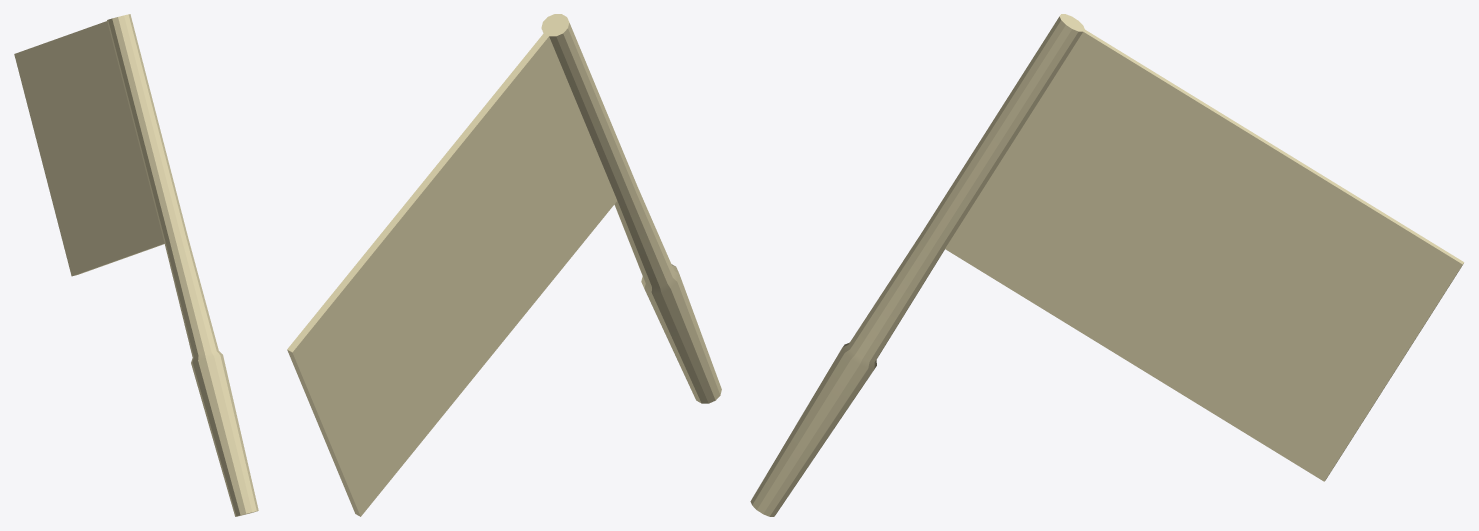
File: Lever_Flag_Left.fbx
3 views of the same model, side by side, from view 1: azimuth 30°, elevation 25°; view 2: azimuth 150°, elevation 25°; view 3: azimuth 270°, elevation 25° (orthographic). The views are drawn at different scales.
Visible parts, largest first — view 1: Lever_Flag_Left; view 2: Lever_Flag_Left; view 3: Lever_Flag_Left.
Boxes of the visible parts, x1=… form: Lever_Flag_Left: x1=14, y1=14, x2=258, y2=516; Lever_Flag_Left: x1=287, y1=14, x2=721, y2=516; Lever_Flag_Left: x1=750, y1=14, x2=1464, y2=516.
Size of the model in its own units: 1.05 by 5.32 by 6.91.
